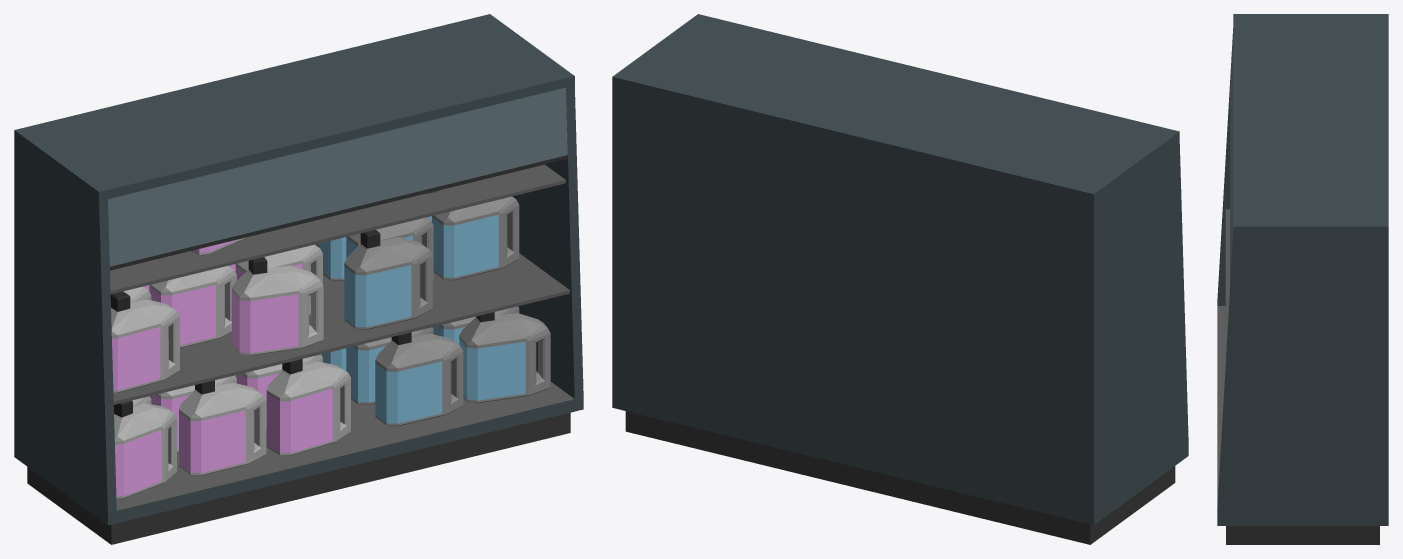
The model's file is Shelf of Window Fluid.fbx.
3 views of the same model, side by side, from view 1: azimuth 30°, elevation 25°; view 2: azimuth 150°, elevation 25°; view 3: azimuth 270°, elevation 25° (orthographic). The views are drawn at different scales.
Visible parts, largest first — view 1: Shelf of Window Fluid; view 2: Shelf of Window Fluid; view 3: Shelf of Window Fluid.
Part boxes in pixels (x1,y1,x2,y2): Shelf of Window Fluid: (14, 14, 583, 544); Shelf of Window Fluid: (612, 14, 1188, 544); Shelf of Window Fluid: (1217, 14, 1388, 544).
Size of the model in its own units: 230 by 163 by 78.39.
1 material, 1 textured.
